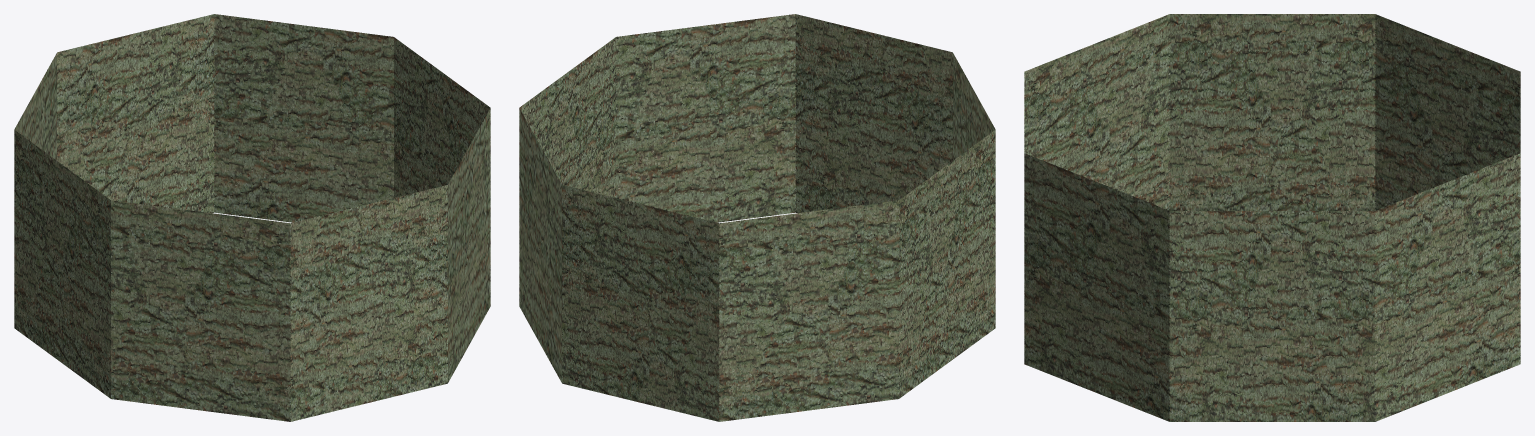
Rendered from first_boss_wall.obj.
3 views of the same model, side by side, from view 1: azimuth 30°, elevation 25°; view 2: azimuth 150°, elevation 25°; view 3: azimuth 270°, elevation 25° (orthographic). The views are drawn at different scales.
Parts seen in each view (by area): view 1: SM_MERGED_Plane6_3.000_SM_MERGED_Plane6.000; view 2: SM_MERGED_Plane6_3.000_SM_MERGED_Plane6.000; view 3: SM_MERGED_Plane6_3.000_SM_MERGED_Plane6.000.
Part boxes in pixels (x1,y1,x2,y2): SM_MERGED_Plane6_3.000_SM_MERGED_Plane6.000: (14,14,490,421); SM_MERGED_Plane6_3.000_SM_MERGED_Plane6.000: (519,14,995,421); SM_MERGED_Plane6_3.000_SM_MERGED_Plane6.000: (1024,14,1520,421).
Bounding box in the file's own units: 28.38 × 14.19 × 30.23.
